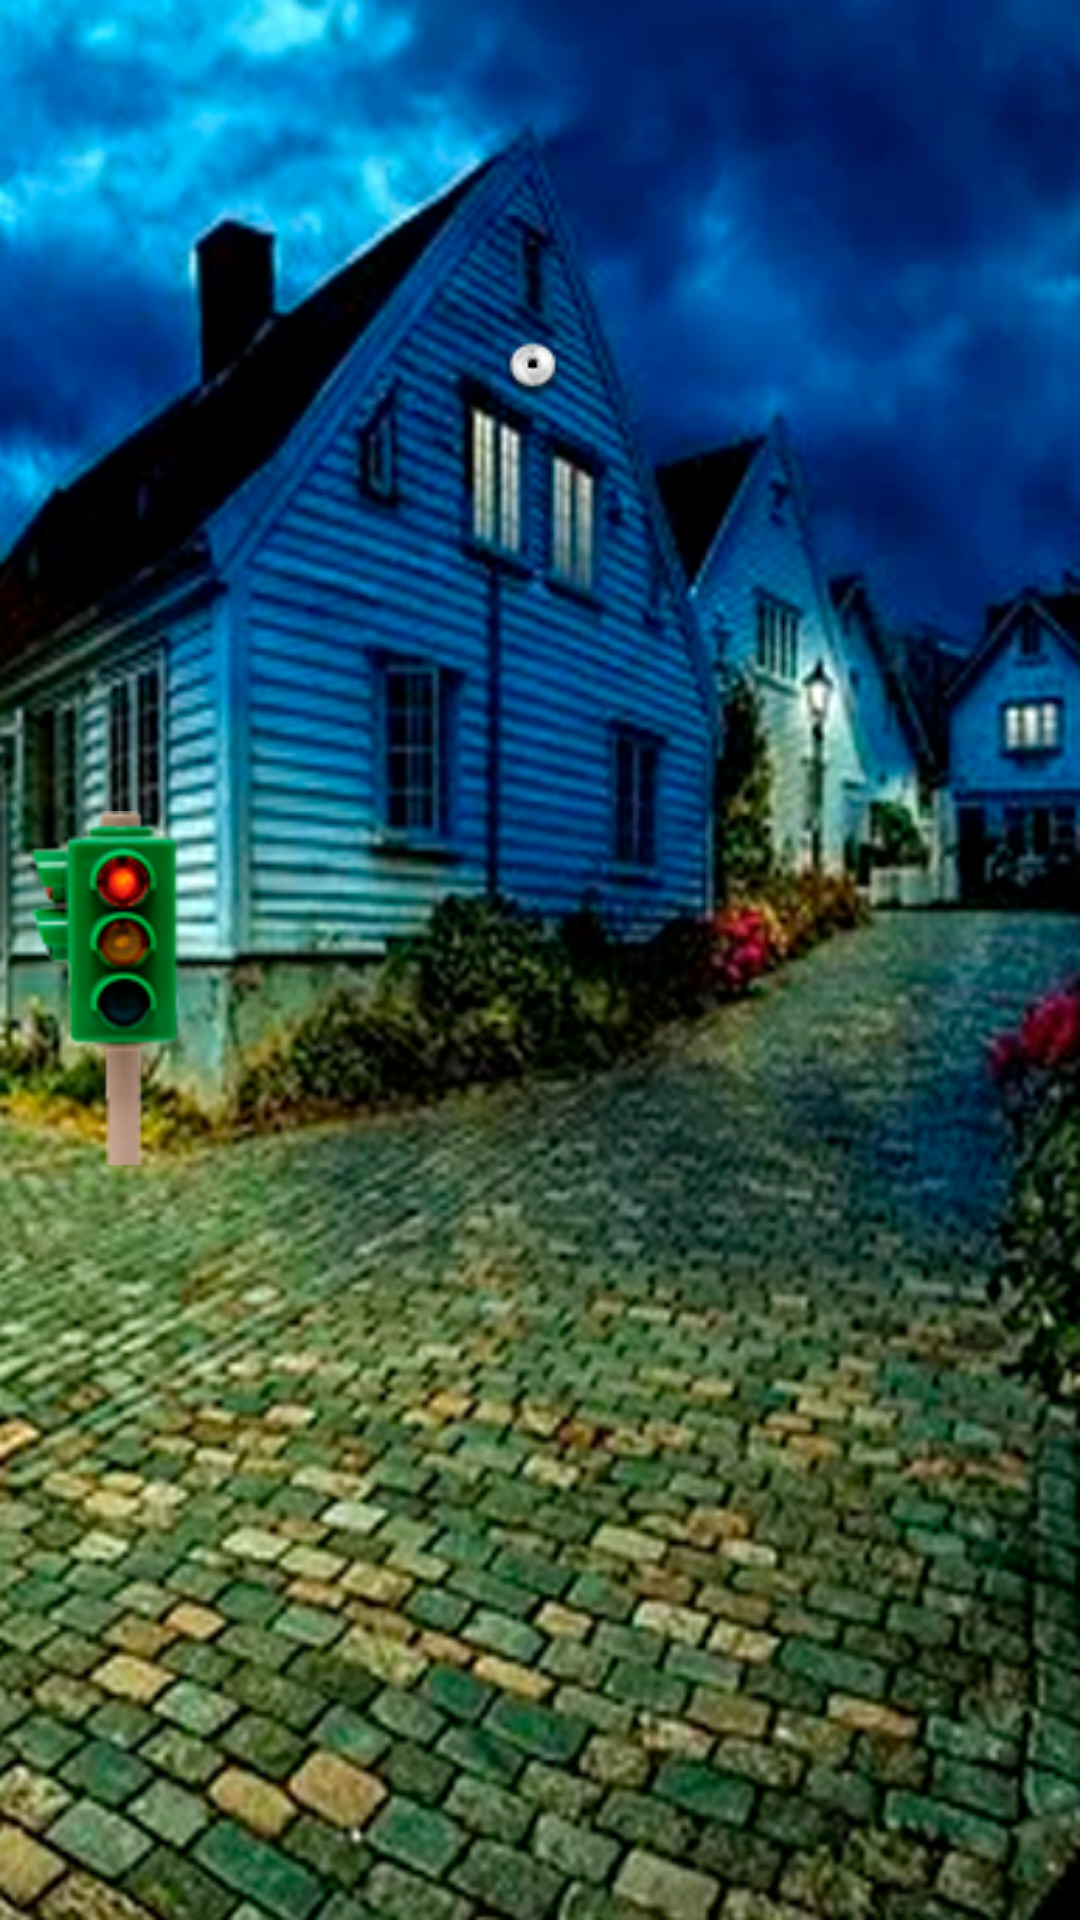

Screen size 1080px x 1920px. Icon name, then its center in pixels as point (x, y):
traffic lights: point (104, 988)
